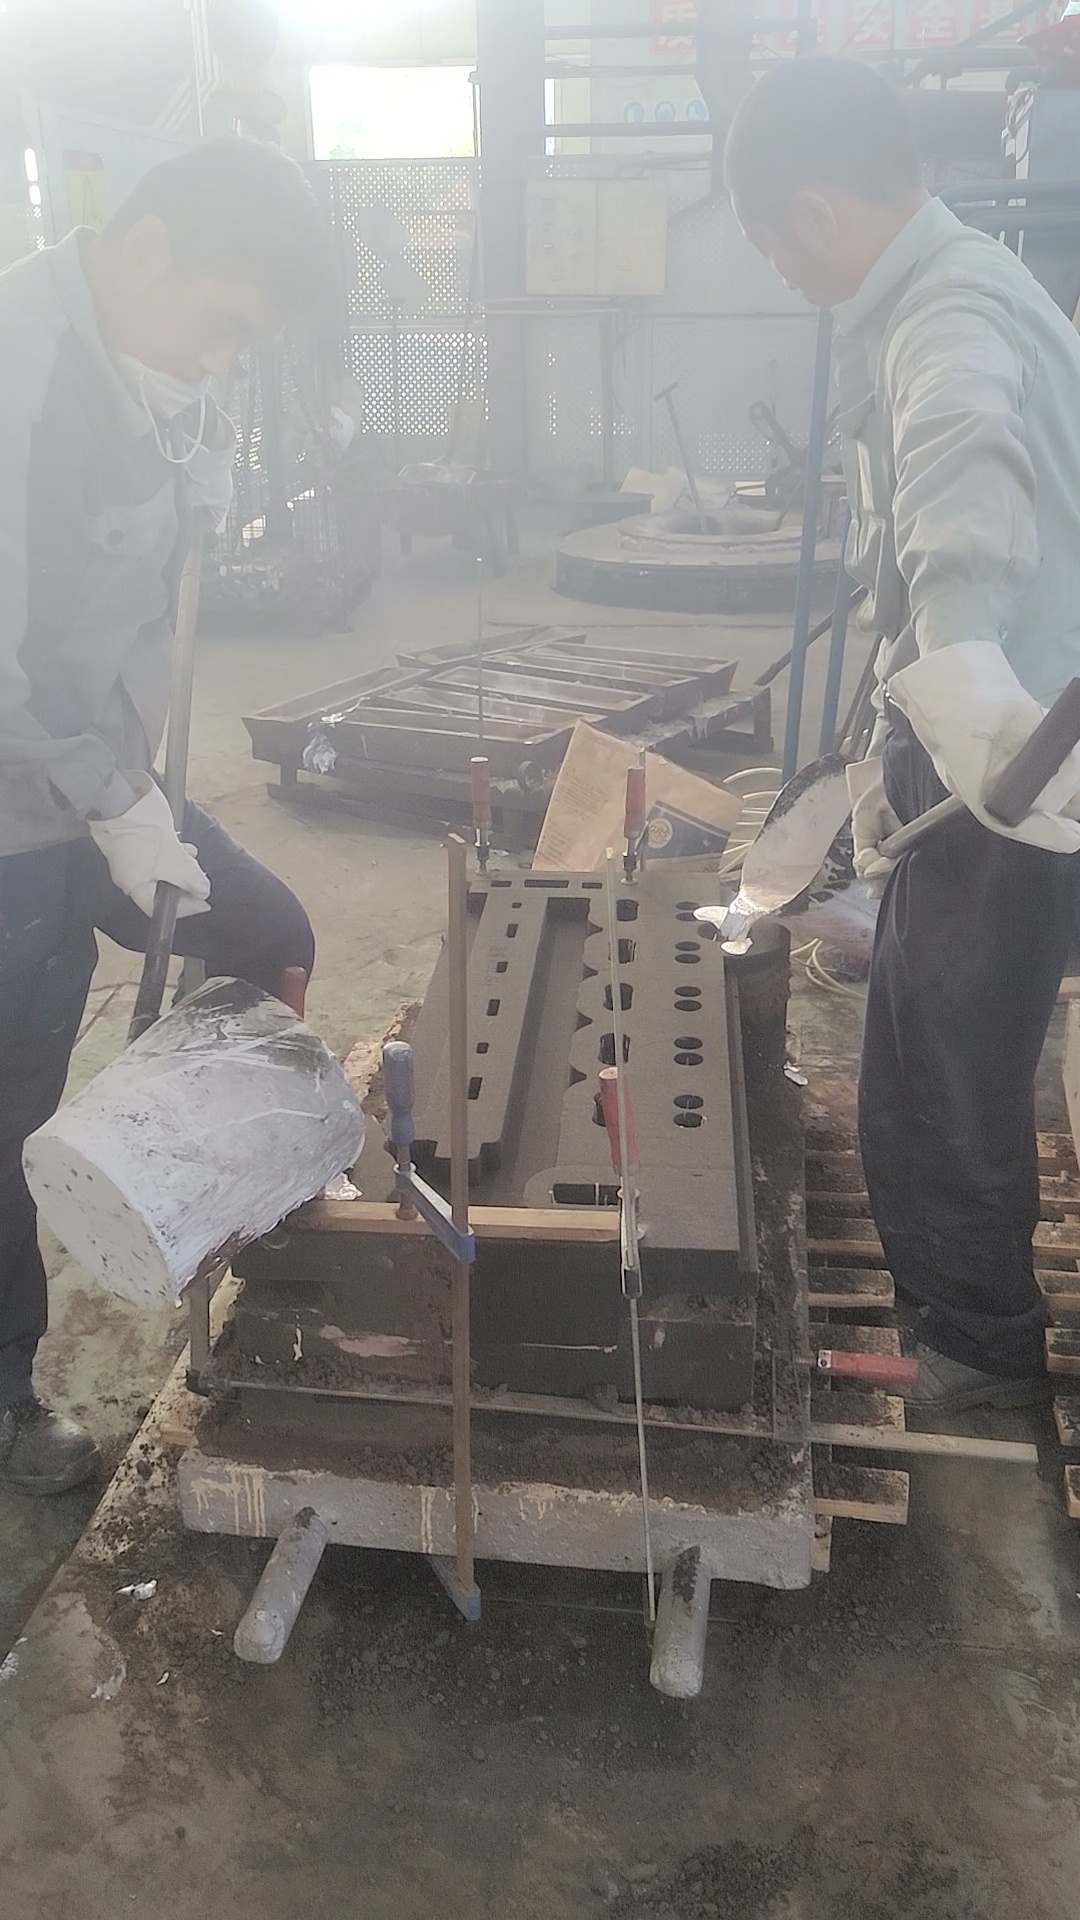pouring hole: (294, 1170, 347, 1203), (698, 918, 754, 942)
